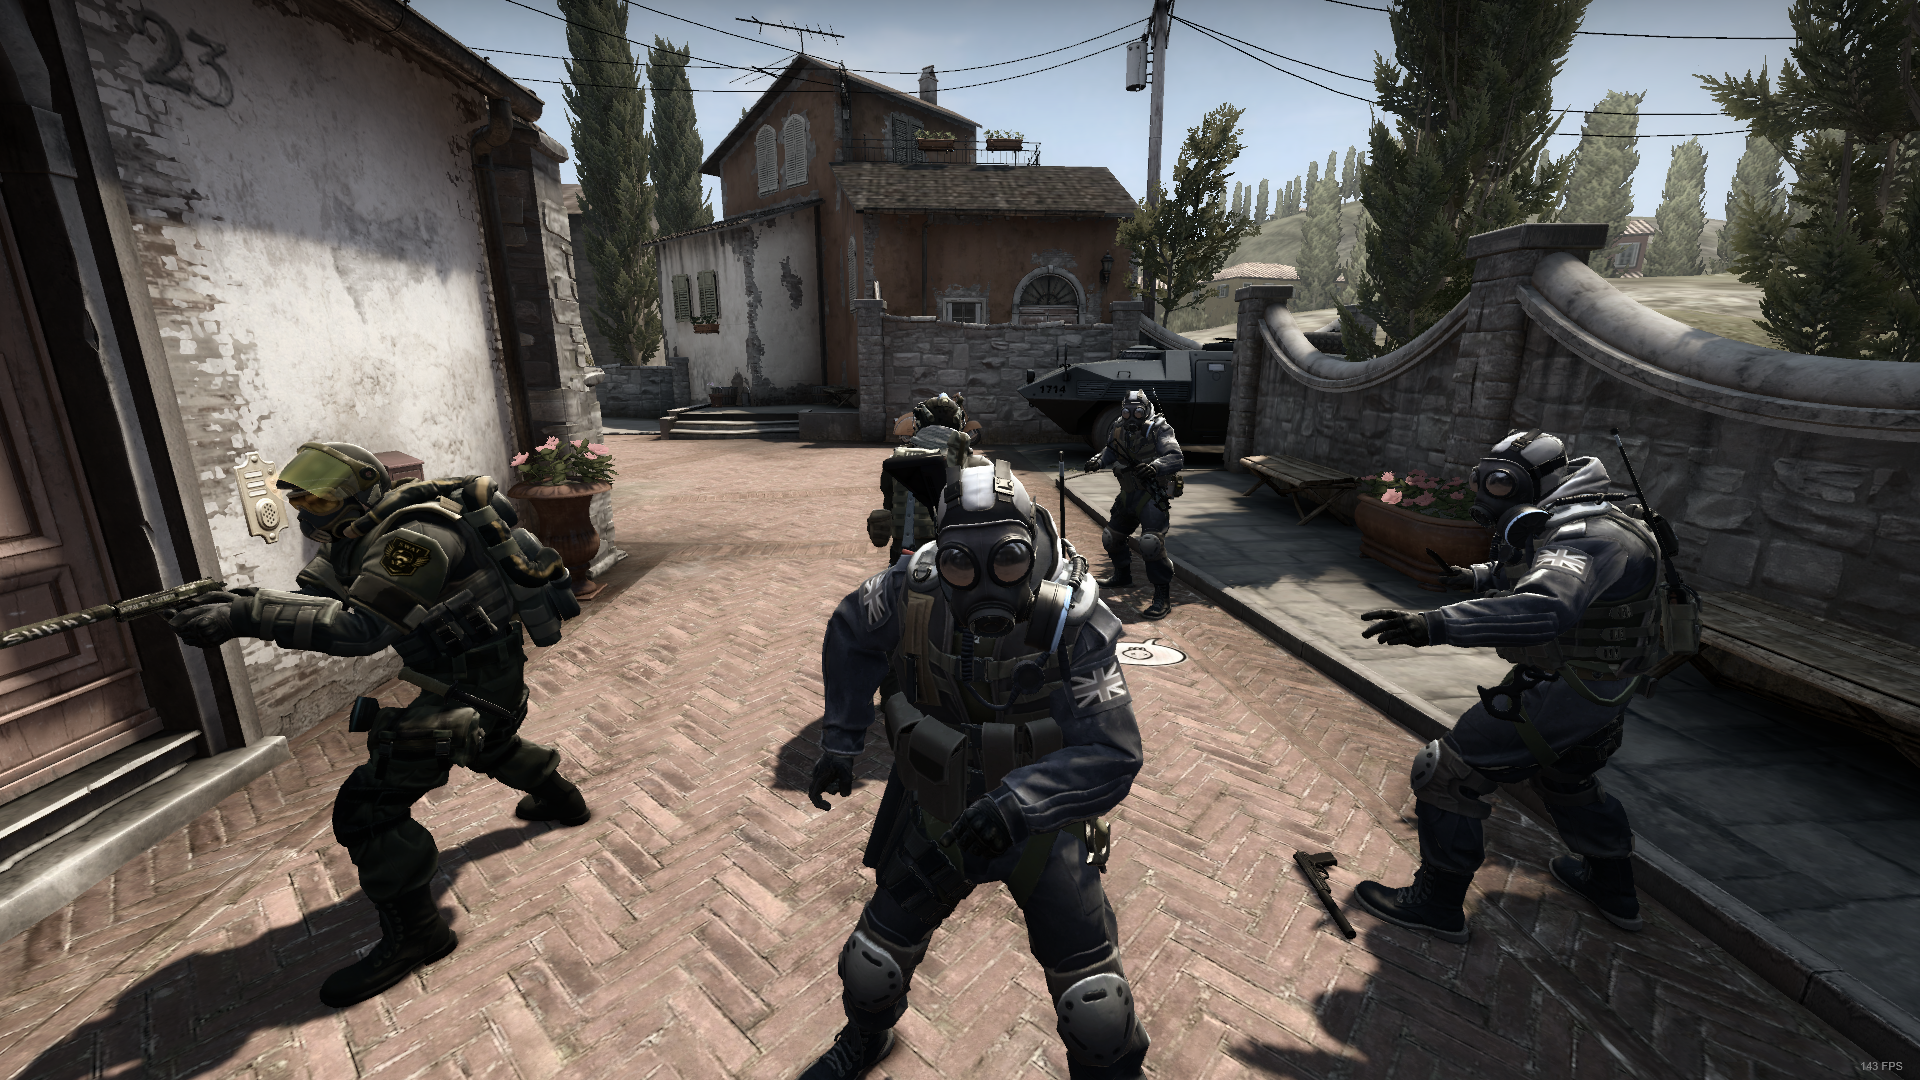ct: (808, 465, 1147, 1080), (1360, 427, 1702, 938), (1087, 388, 1185, 615)
